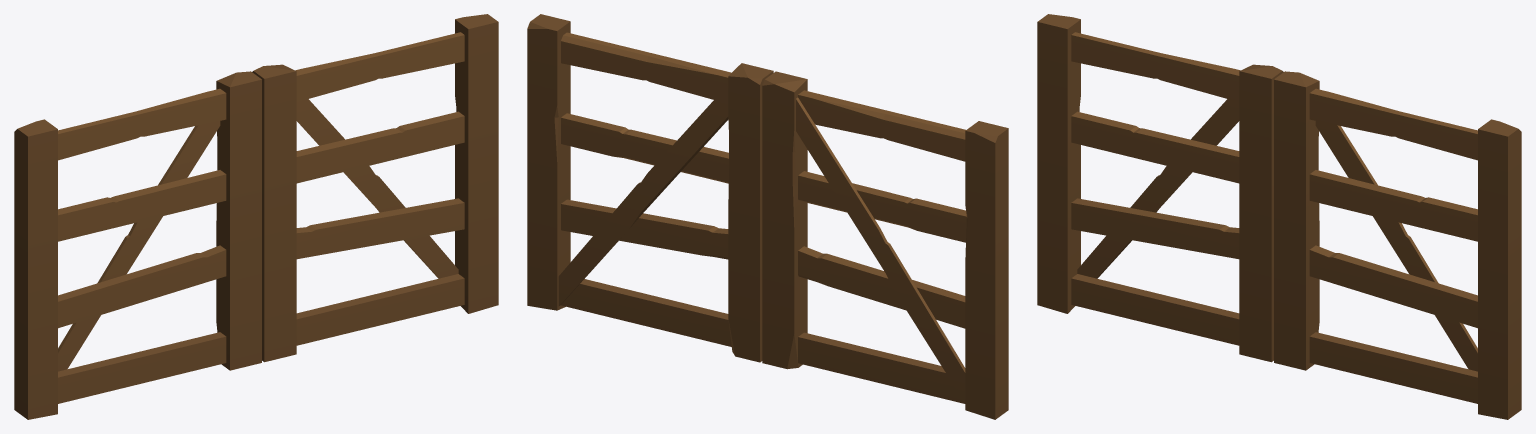
The model's file is Bld_01_Fence_Wood_Gate_Double_Worned_Handle_01.obj.
The picture shows the model from 3 angles, left to right: view 1: azimuth 30°, elevation 25°; view 2: azimuth 150°, elevation 25°; view 3: azimuth 330°, elevation 25°; orthographic projection.
Parts seen in each view (by area): view 1: Bld_01_Fence_Wood_Gate_Double_Left_Worned_01, Bld_01_Fence_Wood_Gate_Double_Right_Worned_01; view 2: Bld_01_Fence_Wood_Gate_Double_Left_Worned_01, Bld_01_Fence_Wood_Gate_Double_Right_Worned_01; view 3: Bld_01_Fence_Wood_Gate_Double_Right_Worned_01, Bld_01_Fence_Wood_Gate_Double_Left_Worned_01.
Boxes of the visible parts, box(x1,y1,x2,y2) form: Bld_01_Fence_Wood_Gate_Double_Left_Worned_01: box(14, 71, 261, 419); Bld_01_Fence_Wood_Gate_Double_Right_Worned_01: box(252, 14, 498, 362); Bld_01_Fence_Wood_Gate_Double_Left_Worned_01: box(762, 71, 1008, 419); Bld_01_Fence_Wood_Gate_Double_Right_Worned_01: box(527, 14, 773, 362); Bld_01_Fence_Wood_Gate_Double_Right_Worned_01: box(1274, 71, 1521, 419); Bld_01_Fence_Wood_Gate_Double_Left_Worned_01: box(1037, 14, 1283, 362).
Bounding box in the file's own units: 1.8 × 1.04 × 0.0898.
1 material, 1 textured.
